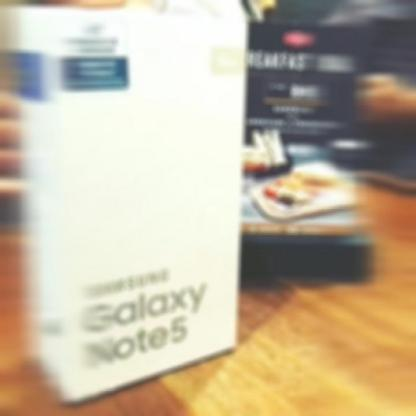-: (10, 0, 263, 401)
